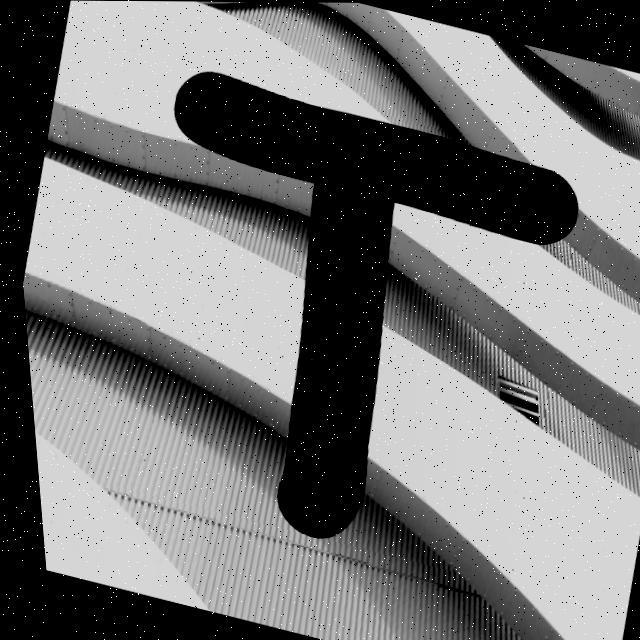T: (172, 72, 574, 538)
